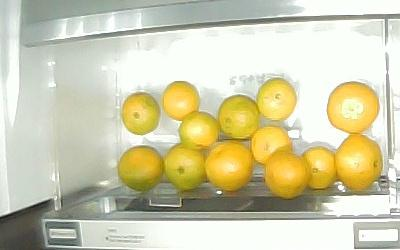tangerine: (328, 82, 380, 134), (336, 133, 383, 190), (205, 142, 254, 191), (263, 149, 311, 199), (118, 145, 165, 191), (165, 143, 206, 191), (217, 95, 258, 140), (122, 92, 161, 135), (258, 78, 297, 121), (178, 113, 221, 151), (252, 125, 293, 164), (162, 81, 200, 121), (302, 146, 336, 190)
